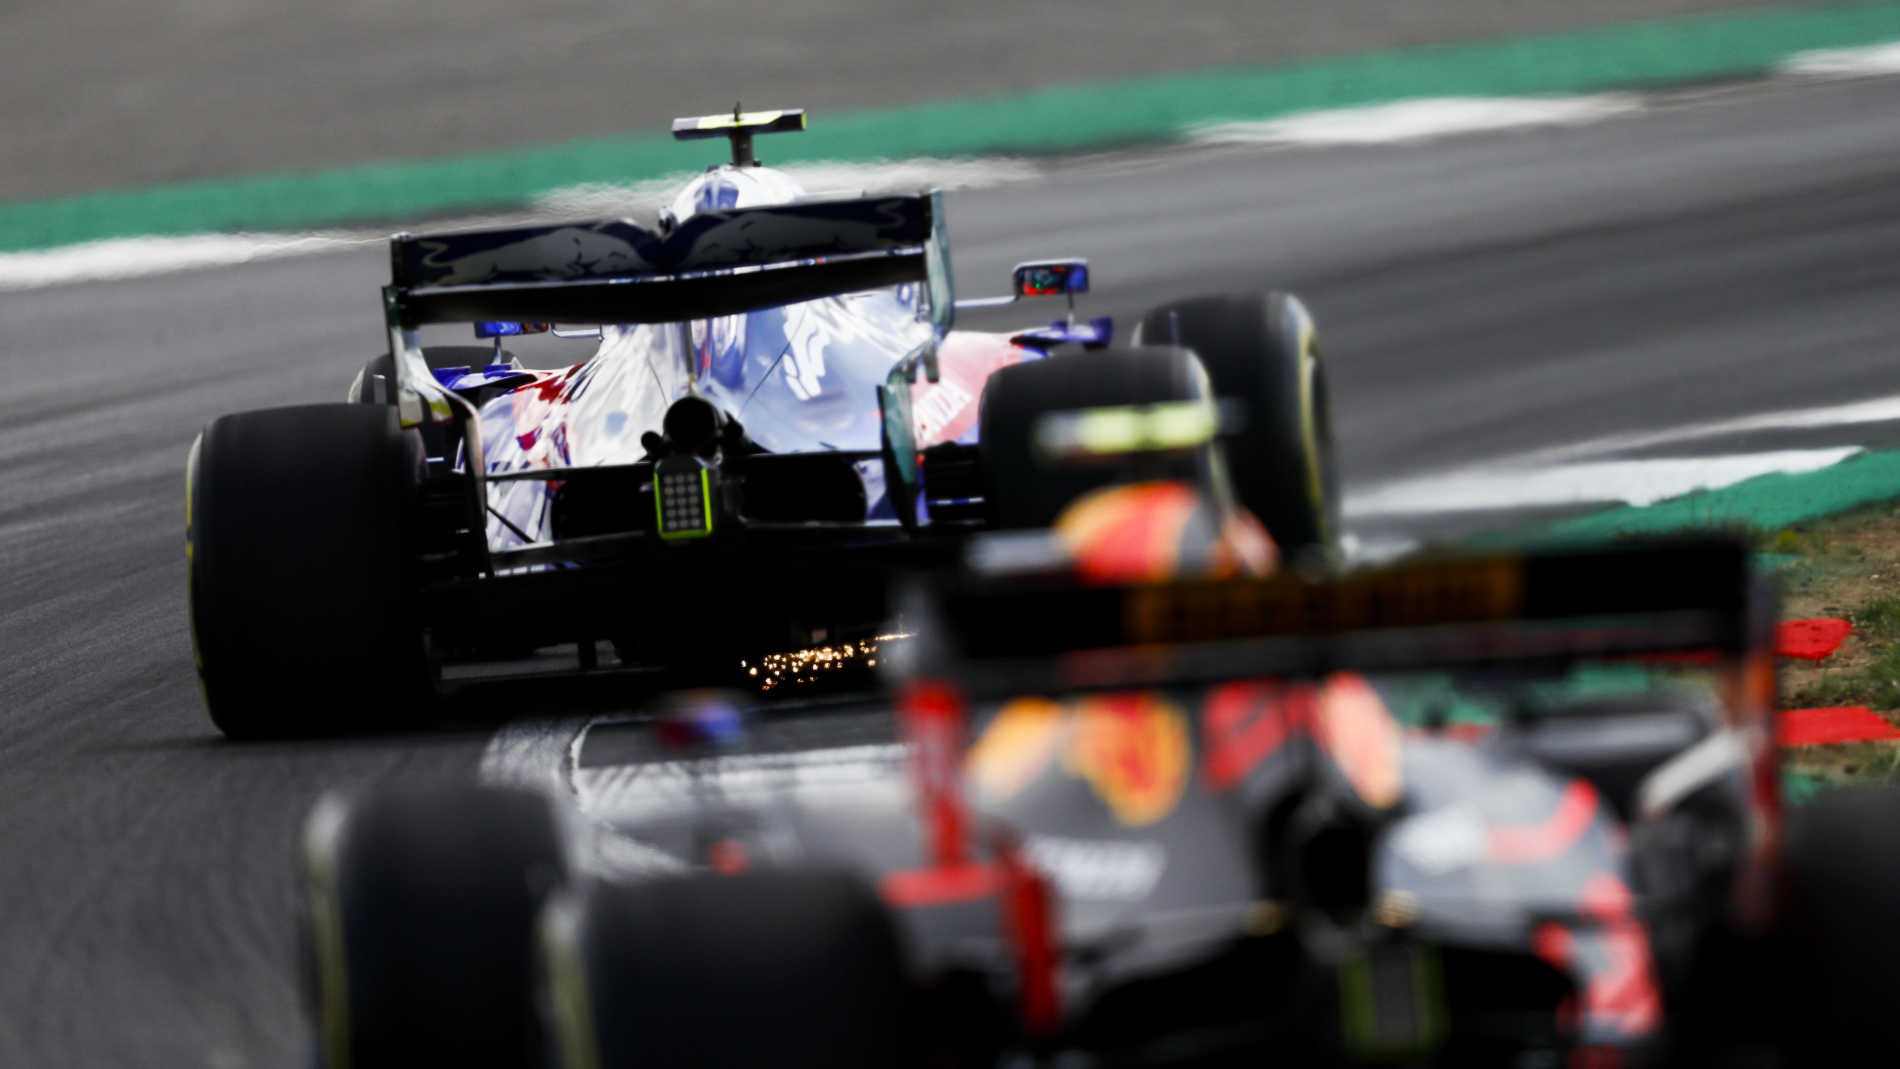f1_car: (147, 84, 1371, 758)
